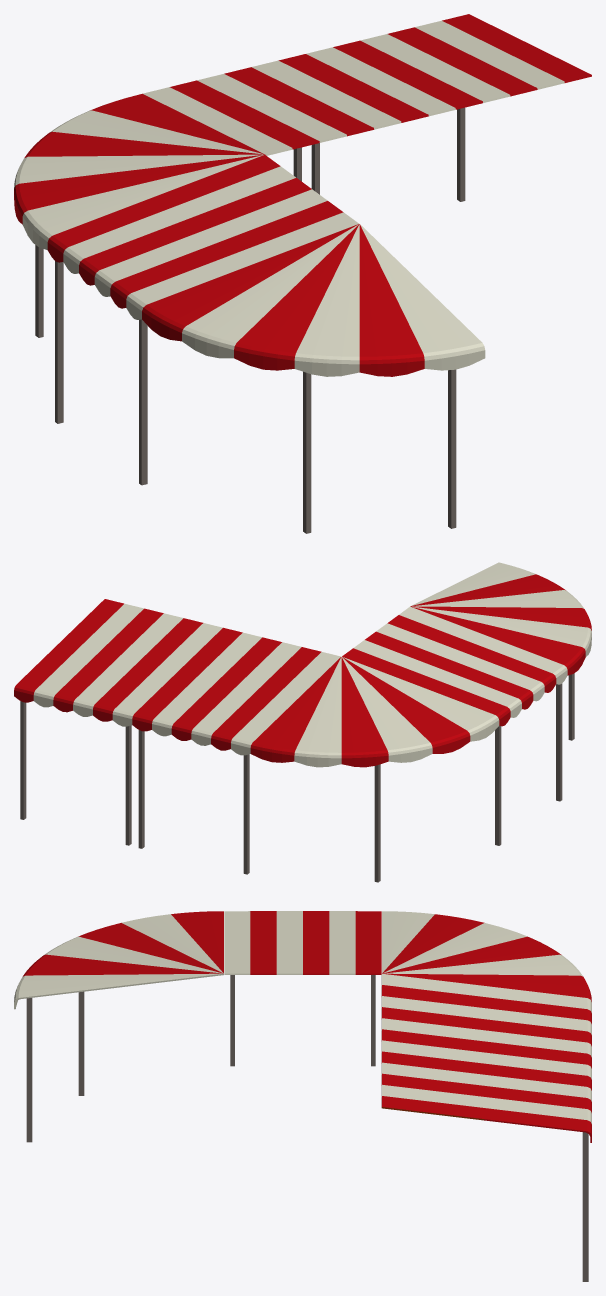
File: roadcafe_mod_1.fbx
The picture shows the model from 3 angles, top to bottom: view 1: azimuth 30°, elevation 25°; view 2: azimuth 150°, elevation 25°; view 3: azimuth 270°, elevation 25°; orthographic projection. The views are drawn at different scales.
Parts seen in each view (by area): view 1: roadcafe_mod_1; view 2: roadcafe_mod_1; view 3: roadcafe_mod_1.
Part boxes in pixels (left/top/right/bottom): roadcafe_mod_1: left=14, top=14, right=591, bottom=533; roadcafe_mod_1: left=14, top=562, right=591, bottom=882; roadcafe_mod_1: left=14, top=911, right=591, bottom=1281.
Size of the model in its own units: 10 by 11 by 3.73.
